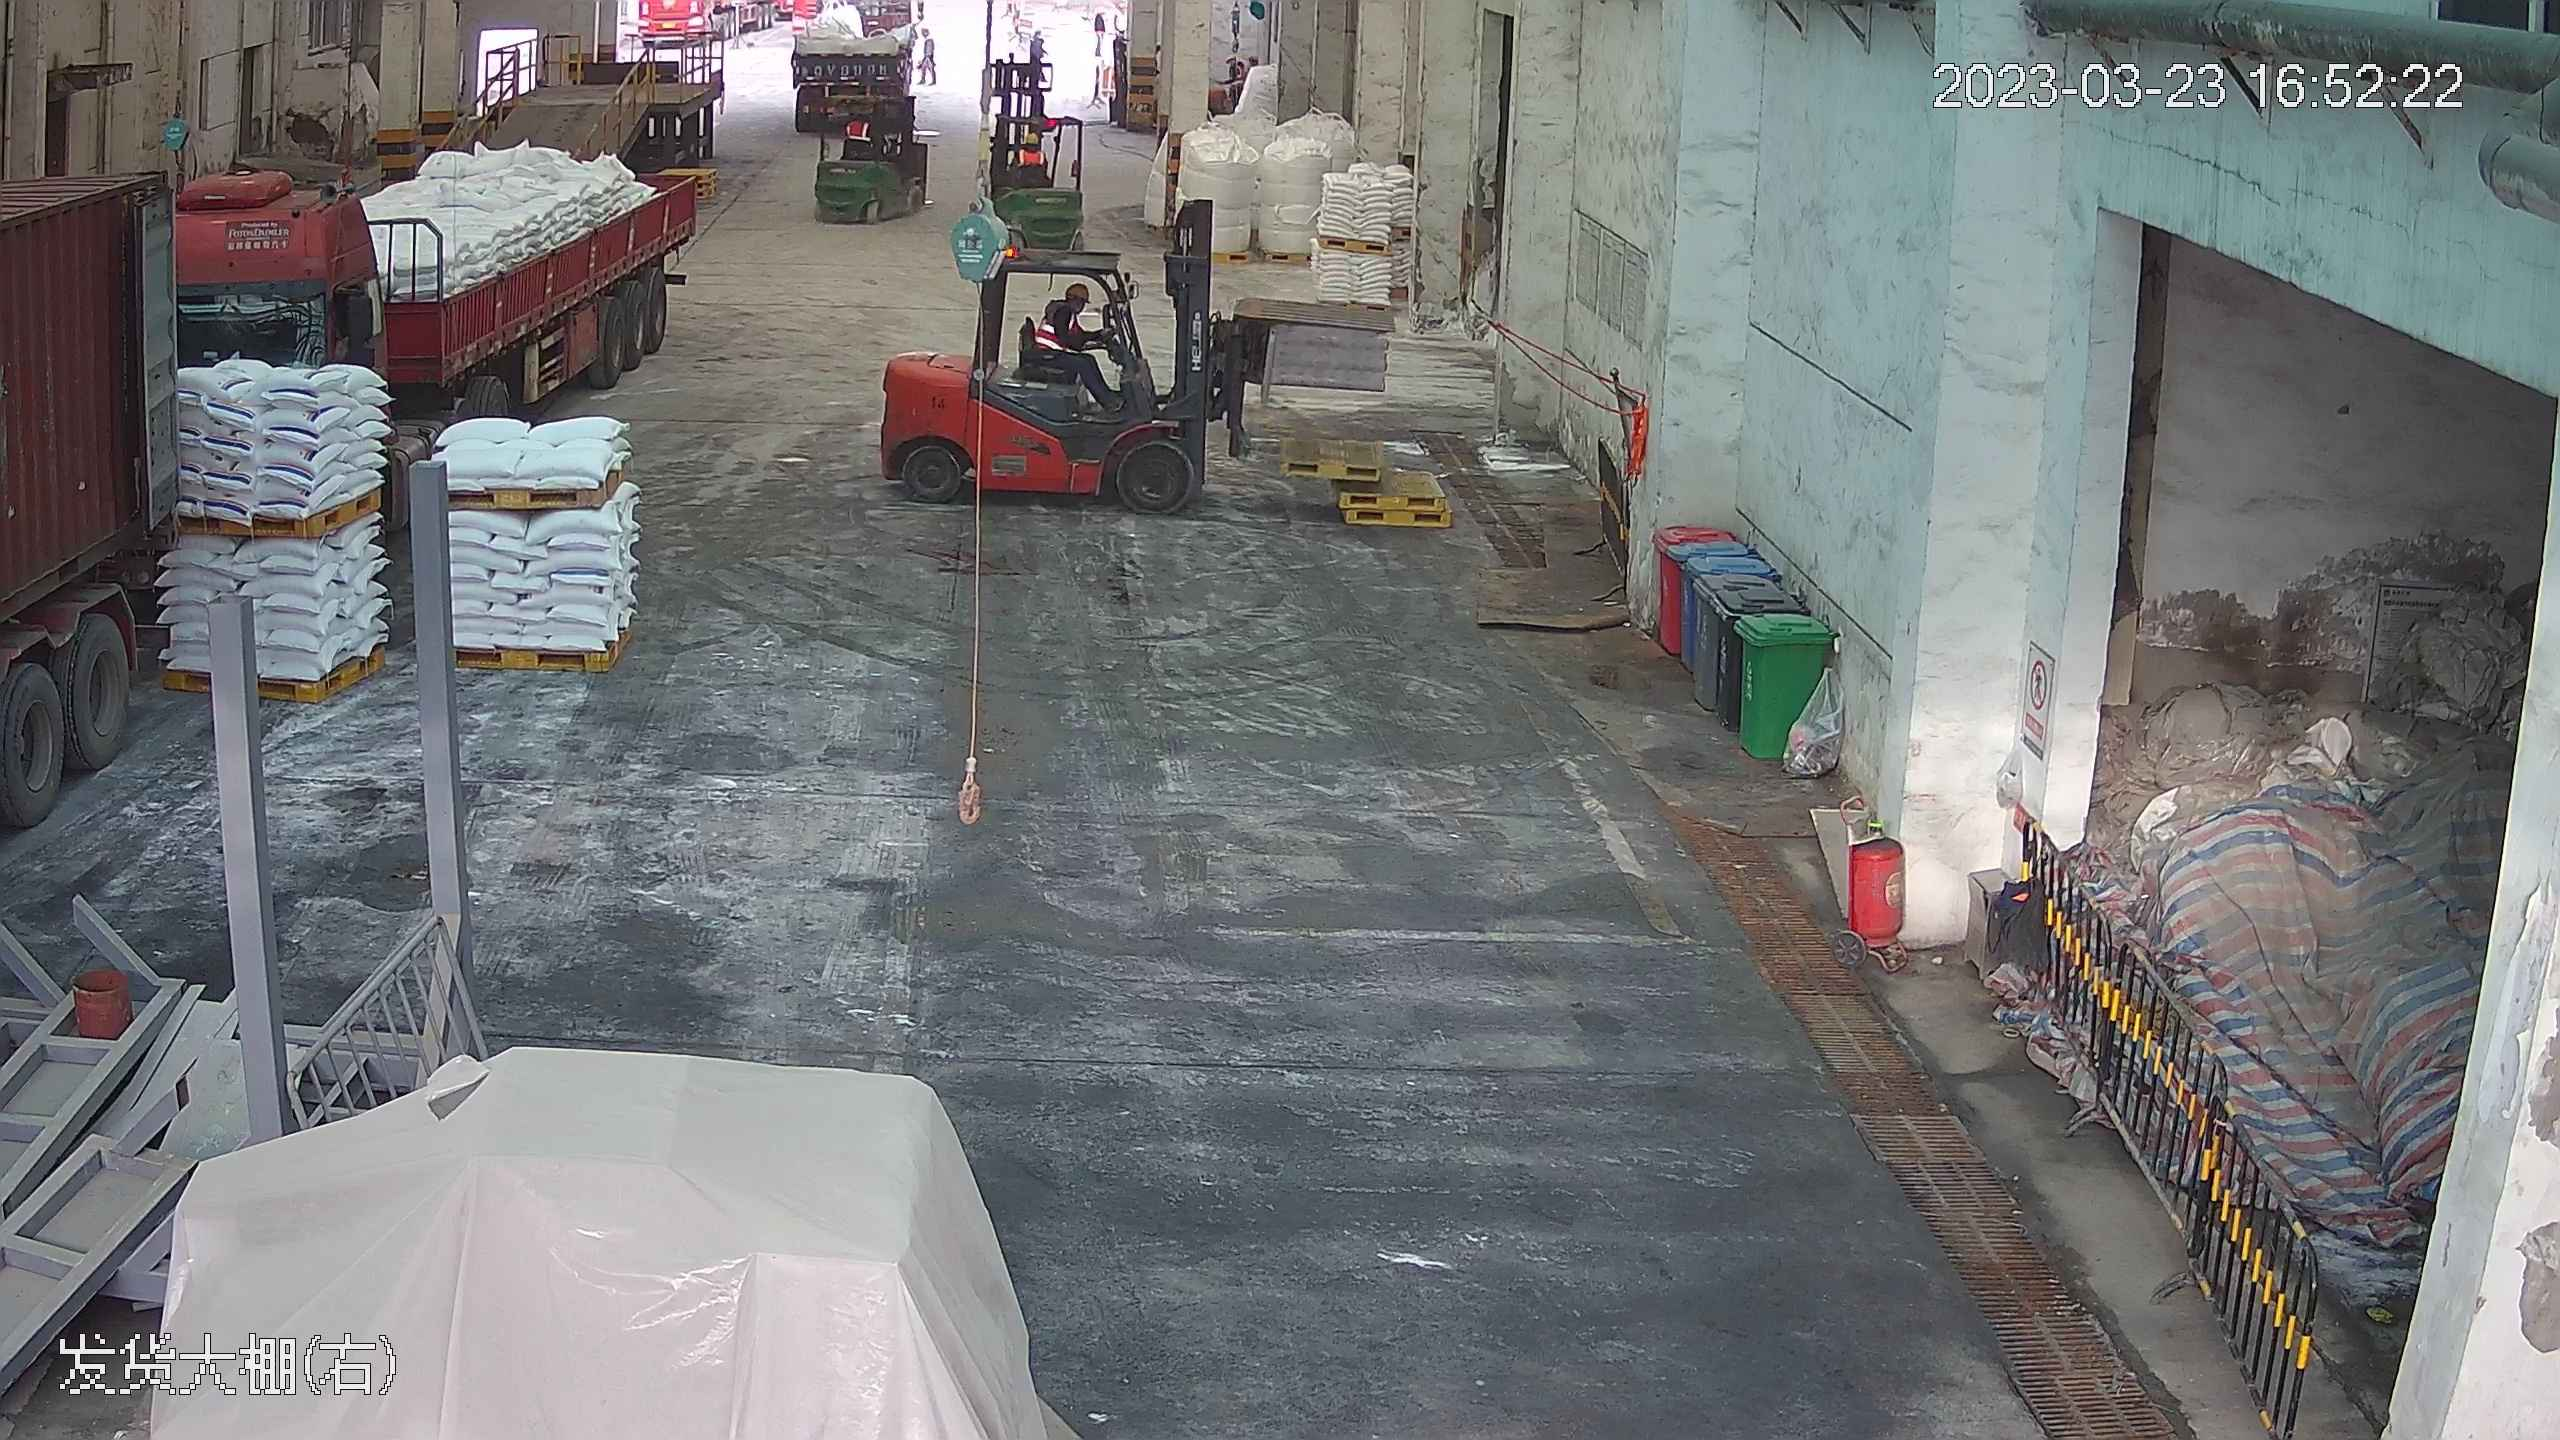head: (1043, 275, 1095, 335), (1015, 123, 1049, 163)
helmet: (1064, 275, 1091, 297), (1024, 132, 1039, 147)
people: (1033, 275, 1128, 419)
truck: (1, 62, 202, 1020), (172, 132, 689, 451)
